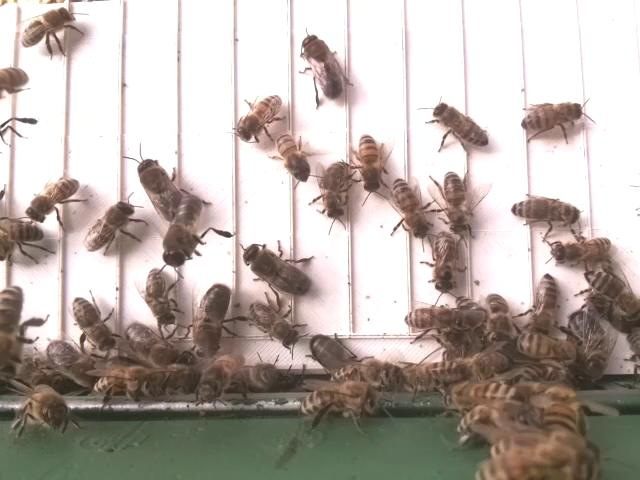Drone: (239, 241, 313, 298), (160, 194, 209, 269), (191, 281, 234, 362), (298, 31, 347, 102), (136, 155, 182, 218)
Worker: (431, 100, 491, 151), (82, 198, 136, 254), (388, 176, 434, 240), (69, 294, 117, 354), (245, 299, 302, 349), (234, 91, 285, 145), (17, 6, 77, 50), (26, 175, 80, 223), (141, 264, 177, 328), (583, 266, 639, 307), (509, 196, 581, 227), (399, 302, 466, 335), (273, 128, 310, 187), (428, 229, 461, 295), (518, 102, 585, 134), (527, 271, 560, 335), (441, 169, 470, 239), (318, 159, 350, 221), (550, 234, 614, 265), (356, 130, 381, 194)
